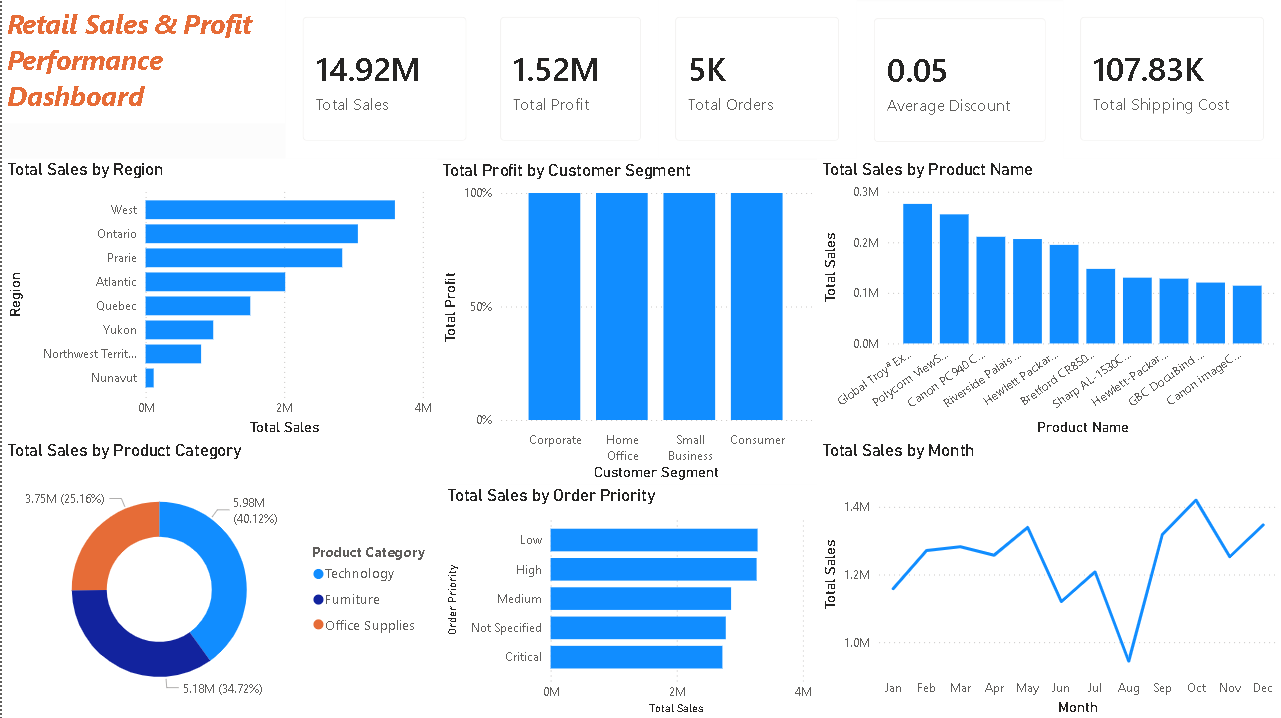

The page's visual inventory and layout, read from the dashboard file:
{"tool":"powerbi","page":{"name":"Page 1","canvas":[1280,720],"ordinal":0},"visuals":[{"type":"clusteredBarChart","fields":{"Y":["DashboardMeasures.Total Sales"],"Category":["Sheet1.Region"]},"box":[0,158.3,435,281.7],"z":0},{"type":"donutChart","fields":{"Category":["Sheet1.Product Category"],"Y":["DashboardMeasures.Total Sales"]},"box":[0,440,440,280],"z":1000},{"type":"lineClusteredColumnComboChart","fields":{"Category":["Sheet1.Product Name"],"Y":["DashboardMeasures.Total Sales"]},"box":[815,158.3,465,281.7],"z":2000},{"type":"hundredPercentStackedColumnChart","fields":{"Category":["Sheet1.Customer Segment"],"Y":["DashboardMeasures.Total Profit"]},"box":[435,160,380,325],"z":3000},{"type":"barChart","fields":{"Category":["Sheet1.Order Priority"],"Y":["DashboardMeasures.Total Sales"]},"box":[440,485,375,235],"z":4000},{"type":"lineChart","fields":{"Y":["DashboardMeasures.Total Sales"],"Category":["Sheet1.Month"]},"box":[815,440,465,280],"z":5000},{"type":"cardVisual","fields":{"Data":["DashboardMeasures.Total Sales"]},"box":[283.3,0,198.3,158.3],"z":5001},{"type":"cardVisual","fields":{"Data":["DashboardMeasures.Total Profit"]},"box":[481.7,0,175,158.3],"z":5002},{"type":"cardVisual","fields":{"Data":["DashboardMeasures.Total Orders"]},"box":[656.7,0,198.3,158.3],"z":5003},{"type":"cardVisual","fields":{"Data":["DashboardMeasures.Average Discount"]},"box":[855,1.7,206.7,158.3],"z":5004},{"type":"cardVisual","fields":{"Data":["DashboardMeasures.Total Shipping Cost"]},"box":[1061.7,0,218.3,158.3],"z":5005},{"type":"textbox","box":[0,0,283.3,123.3],"z":5006}]}

Visuals, with their boxes in screenshot pixels (x1, y1, x2, y2), scaled from the page's 1280x720 canvas onto the 1281x718 screenshot:
clusteredBarChart - DashboardMeasures.Total Sales x Sheet1.Region: (0,158,435,439)
donutChart - Sheet1.Product Category x DashboardMeasures.Total Sales: (0,439,440,717)
lineClusteredColumnComboChart - Sheet1.Product Name x DashboardMeasures.Total Sales: (816,158,1280,439)
hundredPercentStackedColumnChart - Sheet1.Customer Segment x DashboardMeasures.Total Profit: (435,160,816,484)
barChart - Sheet1.Order Priority x DashboardMeasures.Total Sales: (440,484,816,717)
lineChart - DashboardMeasures.Total Sales x Sheet1.Month: (816,439,1280,717)
cardVisual - DashboardMeasures.Total Sales: (284,0,482,158)
cardVisual - DashboardMeasures.Total Profit: (482,0,657,158)
cardVisual - DashboardMeasures.Total Orders: (657,0,856,158)
cardVisual - DashboardMeasures.Average Discount: (856,2,1063,160)
cardVisual - DashboardMeasures.Total Shipping Cost: (1063,0,1280,158)
textbox: (0,0,284,123)
